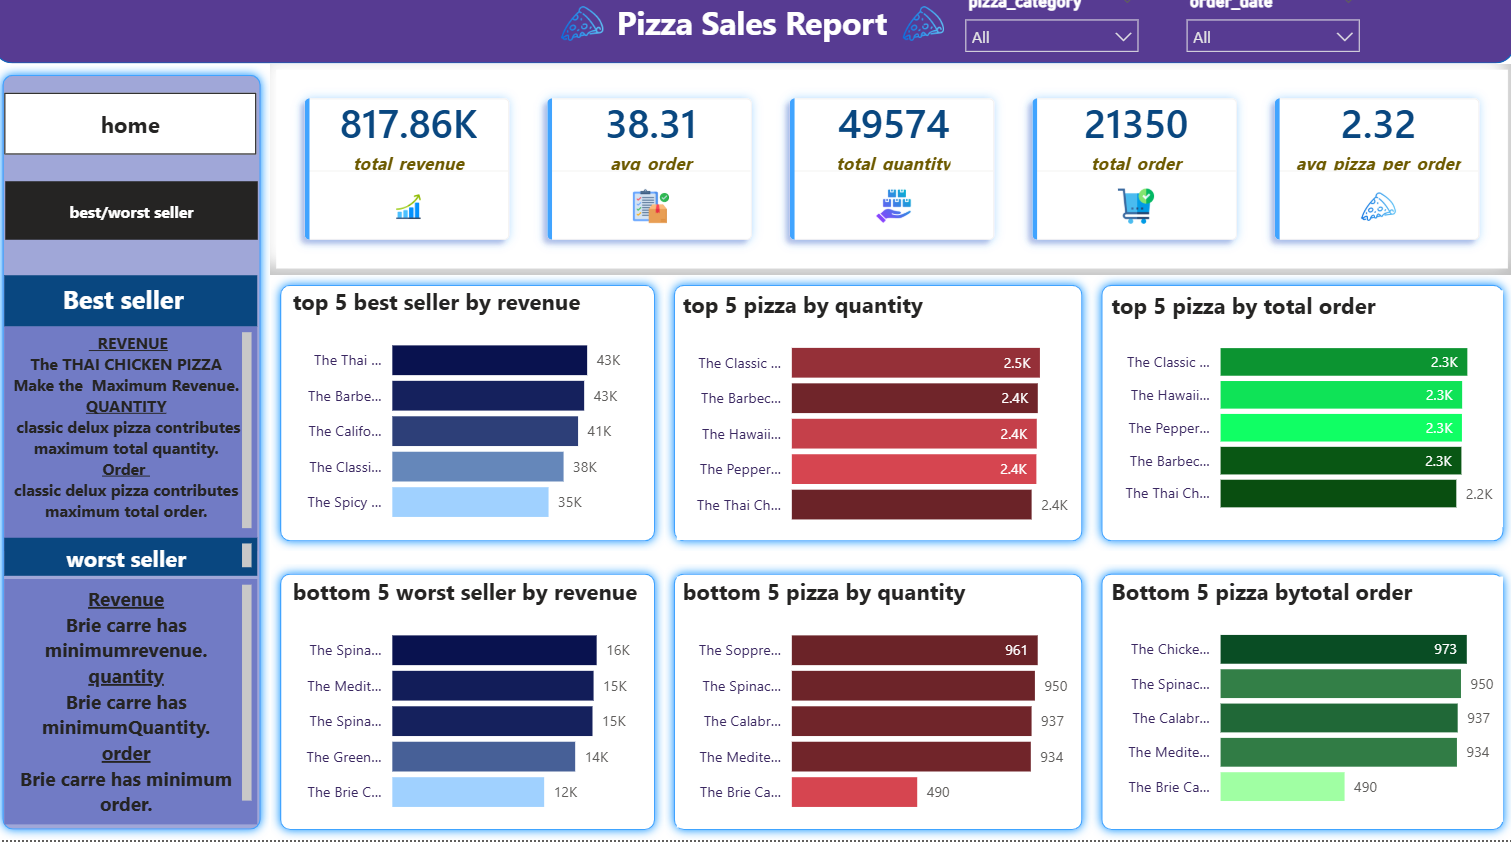

What the dashboard file says about the page in this screenshot:
{"tool":"powerbi","page":{"name":"best/worst seller","canvas":[1280,720],"ordinal":1},"visuals":[{"type":"cardVisual","fields":{"Data":["pizza_sales.total_revenue","pizza_sales.avg_order","pizza_sales.total_quantity","pizza_sales.total_order","pizza_sales.avg_pizza_per_order"]},"box":[232.9,67.3,1046,177.7],"z":0},{"type":"shape","box":[0,1.3,1280.3,65.9],"z":1000},{"type":"textbox","box":[494.9,9.4,286.4,48.4],"z":2000},{"type":"image","box":[472.5,13.5,47.1,39],"z":3000},{"type":"image","box":[756.6,13.5,51.2,39],"z":4000},{"type":"shape","box":[233.1,245.3,331.5,231.8],"z":5000},{"type":"shape","box":[0,68.7,233.1,650.9],"z":6000},{"type":"textbox","box":[9.4,245.3,212.9,43.1],"z":7000},{"type":"textbox","box":[9.4,500,212.9,206.2],"z":8000},{"type":"textbox","box":[9.4,288.4,212.9,188.7],"z":9000},{"type":"slicer","fields":{"Values":["pizza_sales.pizza_category"]},"box":[807.2,1.3,165.8,72.8],"z":10000},{"type":"slicer","fields":{"Values":["pizza_sales.order_date"]},"box":[993.2,1.3,165.8,72.8],"z":11000},{"type":"shape","box":[564.7,245.3,359.8,231.8],"z":12000},{"type":"shape","box":[924.5,245.3,354.4,231.8],"z":13000},{"type":"shape","box":[233.1,487.9,331.5,231.8],"z":14000},{"type":"shape","box":[564.7,487.9,359.8,231.8],"z":15000},{"type":"shape","box":[924.5,487.9,354.4,231.8],"z":16000},{"type":"barChart","title":"top 5 best seller by revenue","fields":{"Category":["pizza_sales.pizza_name"],"Y":["pizza_sales.total_revenue"]},"box":[246.6,254.7,304.6,211.6],"z":17000},{"type":"barChart","title":"bottom 5 worst seller by revenue","fields":{"Category":["pizza_sales.pizza_name"],"Y":["pizza_sales.total_revenue"]},"box":[246.6,498.6,304.6,211.6],"z":18000},{"type":"barChart","title":"top 5 pizza by quantity","fields":{"Category":["pizza_sales.pizza_name"],"Y":["pizza_sales.total_quantity"]},"box":[575.4,256.1,334.2,211.6],"z":19000},{"type":"barChart","title":"bottom 5 pizza by quantity","fields":{"Category":["pizza_sales.pizza_name"],"Y":["pizza_sales.total_quantity"]},"box":[575.4,498.6,334.2,211.6],"z":20000},{"type":"barChart","title":"top 5 pizza by total order","fields":{"Category":["pizza_sales.pizza_name"],"Y":["pizza_sales.total_order"]},"box":[935.3,257.4,334.2,199.5],"z":21000},{"type":"barChart","title":"Bottom 5 pizza bytotal order","fields":{"Category":["pizza_sales.pizza_name"],"Y":["pizza_sales.total_quantity"]},"box":[935.3,498.6,334.2,206.2],"z":22000},{"type":"textbox","box":[9.4,466.3,212.9,32.3],"z":23000},{"type":"pageNavigator","box":[10.8,165.8,212.9,49.9],"z":24000},{"type":"pageNavigator","box":[9.4,91.6,212.9,52.6],"z":25000}]}

Visuals, with their boxes in screenshot pixels (x1, y1, x2, y2), scaled from the page's 1280x720 canvas onto the 1511x847 screenshot:
cardVisual - pizza_sales.total_revenue x pizza_sales.avg_order: [left=275, top=79, right=1510, bottom=288]
shape: [left=0, top=2, right=1510, bottom=79]
textbox: [left=584, top=11, right=922, bottom=68]
image: [left=558, top=16, right=613, bottom=62]
image: [left=893, top=16, right=954, bottom=62]
shape: [left=275, top=289, right=666, bottom=561]
shape: [left=0, top=81, right=275, bottom=846]
textbox: [left=11, top=289, right=262, bottom=339]
textbox: [left=11, top=588, right=262, bottom=831]
textbox: [left=11, top=339, right=262, bottom=561]
slicer - pizza_sales.pizza_category: [left=953, top=2, right=1149, bottom=87]
slicer - pizza_sales.order_date: [left=1172, top=2, right=1368, bottom=87]
shape: [left=667, top=289, right=1091, bottom=561]
shape: [left=1091, top=289, right=1510, bottom=561]
shape: [left=275, top=574, right=666, bottom=846]
shape: [left=667, top=574, right=1091, bottom=846]
shape: [left=1091, top=574, right=1510, bottom=846]
"top 5 best seller by revenue" barChart: [left=291, top=300, right=651, bottom=549]
"bottom 5 worst seller by revenue" barChart: [left=291, top=587, right=651, bottom=835]
"top 5 pizza by quantity" barChart: [left=679, top=301, right=1074, bottom=550]
"bottom 5 pizza by quantity" barChart: [left=679, top=587, right=1074, bottom=835]
"top 5 pizza by total order" barChart: [left=1104, top=303, right=1499, bottom=537]
"Bottom 5 pizza bytotal order" barChart: [left=1104, top=587, right=1499, bottom=829]
textbox: [left=11, top=549, right=262, bottom=587]
pageNavigator: [left=13, top=195, right=264, bottom=254]
pageNavigator: [left=11, top=108, right=262, bottom=170]
